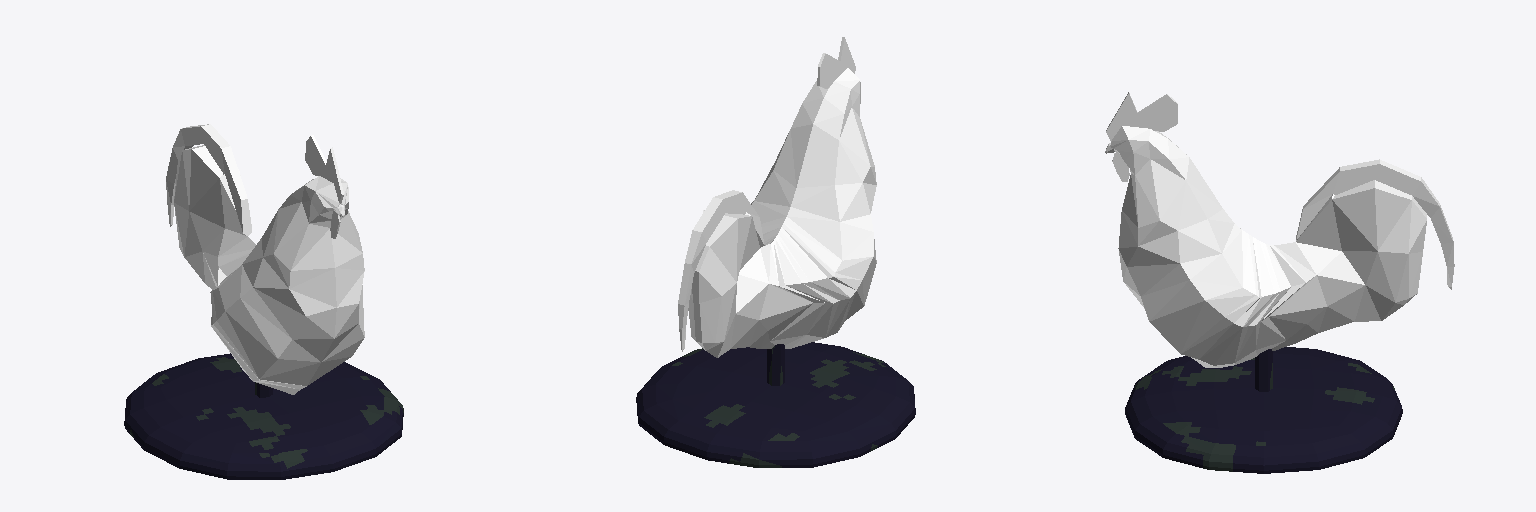
3 renders of one model, left to right at view 1: azimuth 30°, elevation 25°; view 2: azimuth 150°, elevation 25°; view 3: azimuth 270°, elevation 25°, orthographic.
Parts seen in each view (by area): view 1: Rooster_Statue, Base_of_Statue; view 2: Rooster_Statue, Base_of_Statue, Base_Stem_of_Statue; view 3: Rooster_Statue, Base_of_Statue, Base_Stem_of_Statue.
Boxes of the visible parts, x1,y1,x2,y2 form: Rooster_Statue: [166, 124, 364, 394]; Base_of_Statue: [124, 353, 403, 479]; Rooster_Statue: [678, 37, 876, 357]; Base_of_Statue: [636, 342, 915, 467]; Base_Stem_of_Statue: [767, 344, 784, 385]; Rooster_Statue: [1105, 92, 1454, 367]; Base_of_Statue: [1125, 347, 1402, 473]; Base_Stem_of_Statue: [1255, 349, 1272, 391].
Bounding box in the file's own units: 0.9167 × 1.19 × 1.15.
Materials: 2 (1 with a texture image).